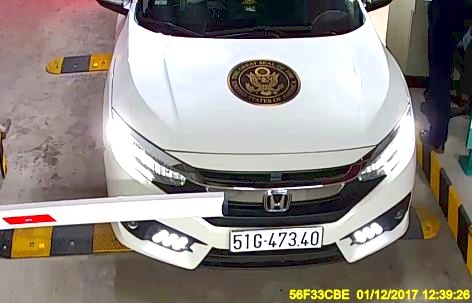plate: (227, 225, 325, 252)
